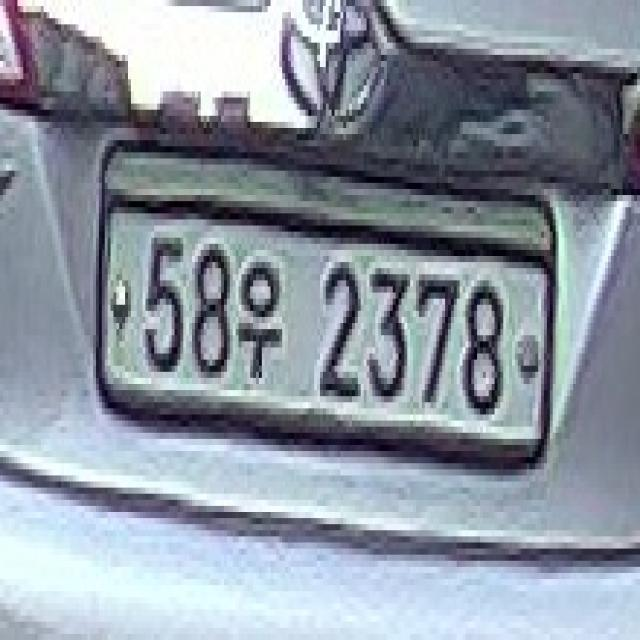plat: (95, 140, 559, 464)
